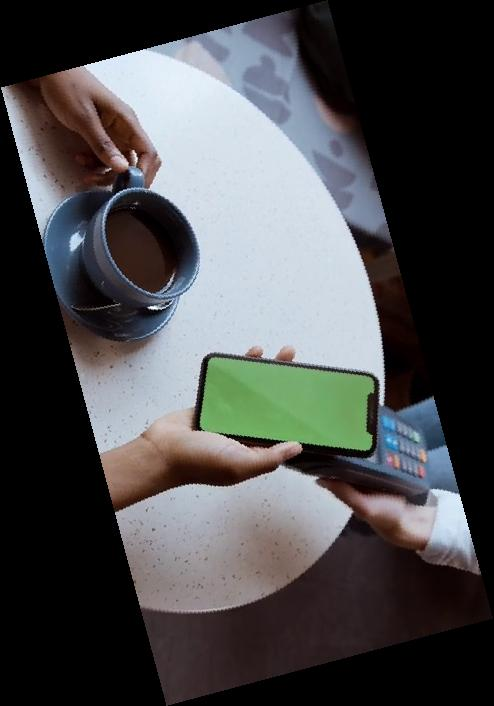phone: (191, 347, 383, 461)
